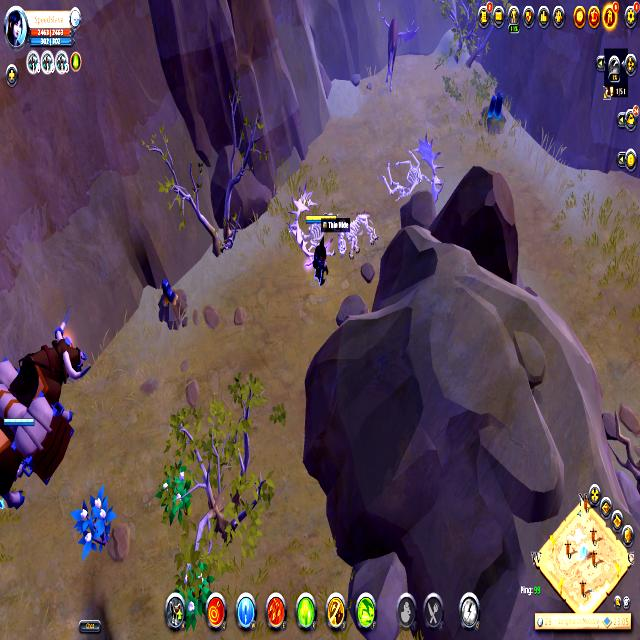hide: (71, 481, 115, 564), (172, 547, 216, 626), (158, 457, 193, 530)
ore: (376, 0, 418, 95)
player: (156, 267, 190, 338), (483, 90, 505, 132)
red: (304, 216, 334, 288), (0, 403, 43, 451)
